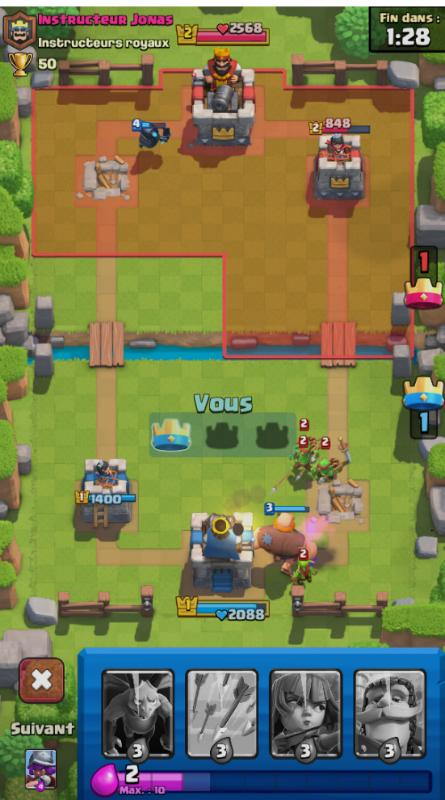geant: (253, 498, 318, 579)
gobelin: (288, 548, 317, 592)
gobelin_lances: (284, 439, 324, 492), (309, 443, 344, 496), (292, 430, 319, 459)
mini_PEKKA: (123, 119, 176, 158)
